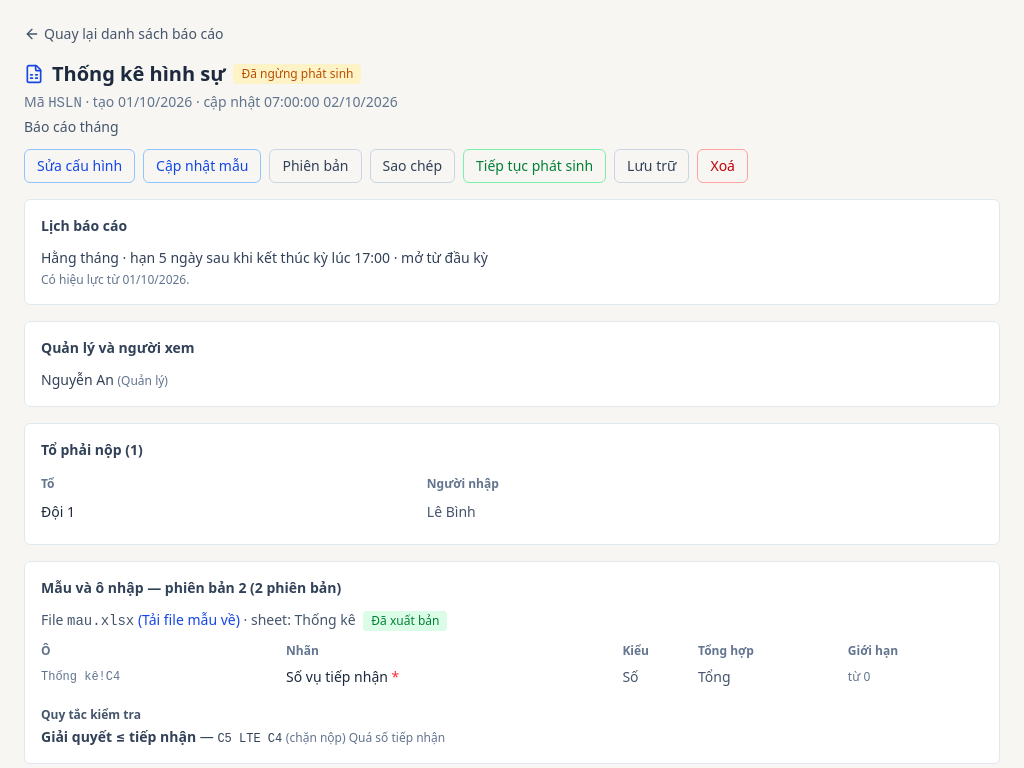
ReportDetailPage › a refused action shows the server reason on the page
Click the button with test id "btn-resume": click(534, 166) [463,149,606,183]
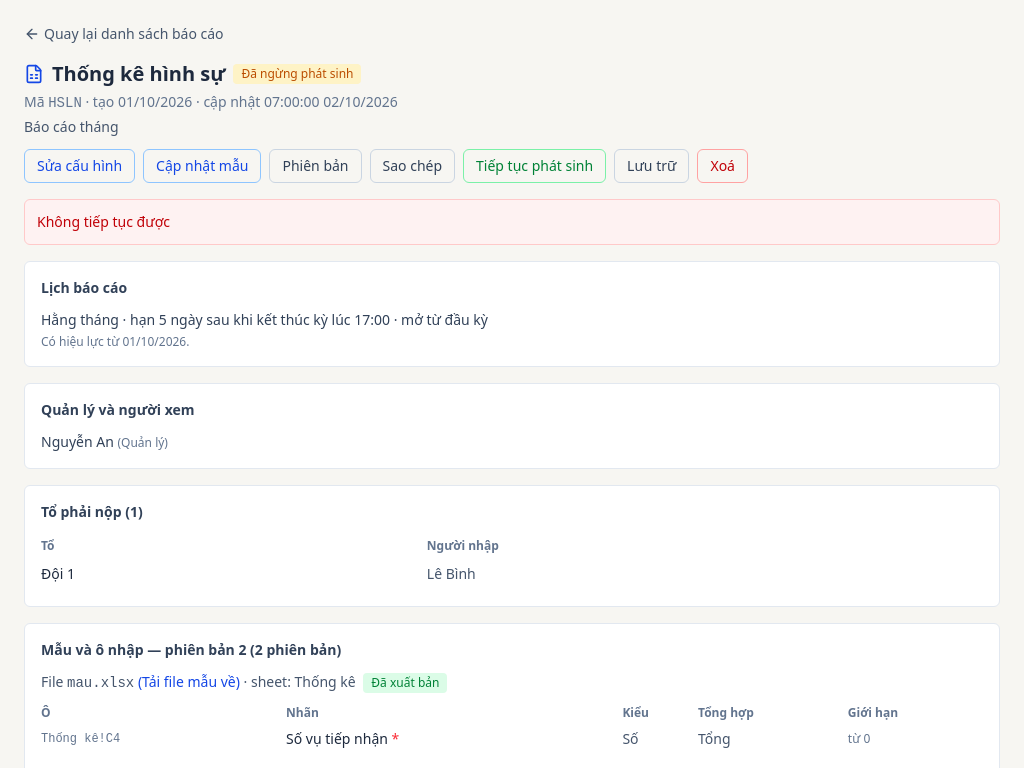
Result: the text "Không tiếp tục được" is shown at [24,199,1000,245]
